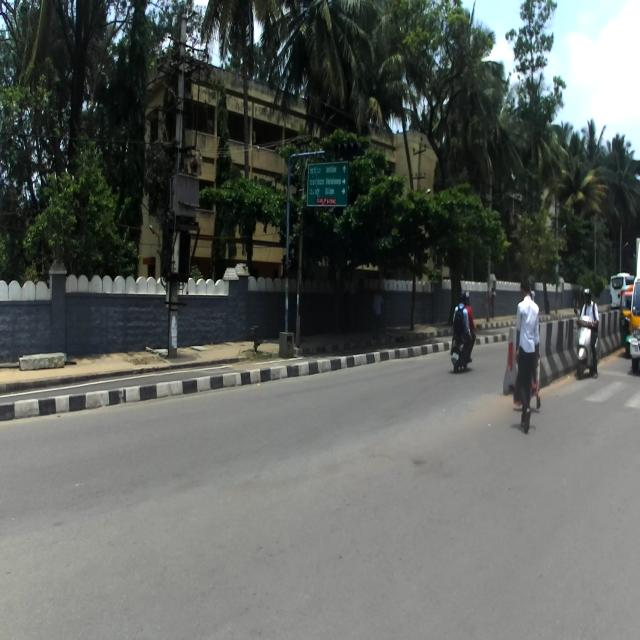electric pole ahead at: (164, 2, 202, 366)
person ahead at: (514, 275, 544, 436)
